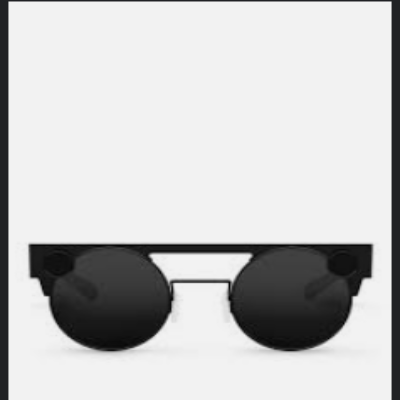glasses: (20, 236, 379, 359)
